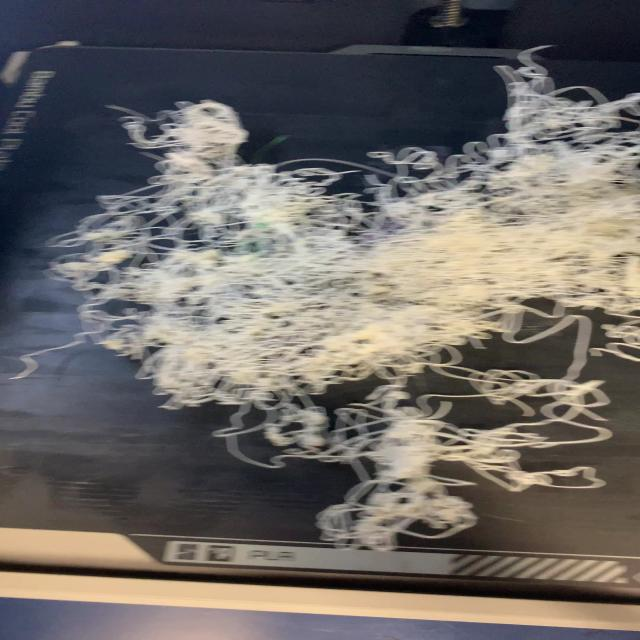spaghetti: (16, 44, 636, 554)
